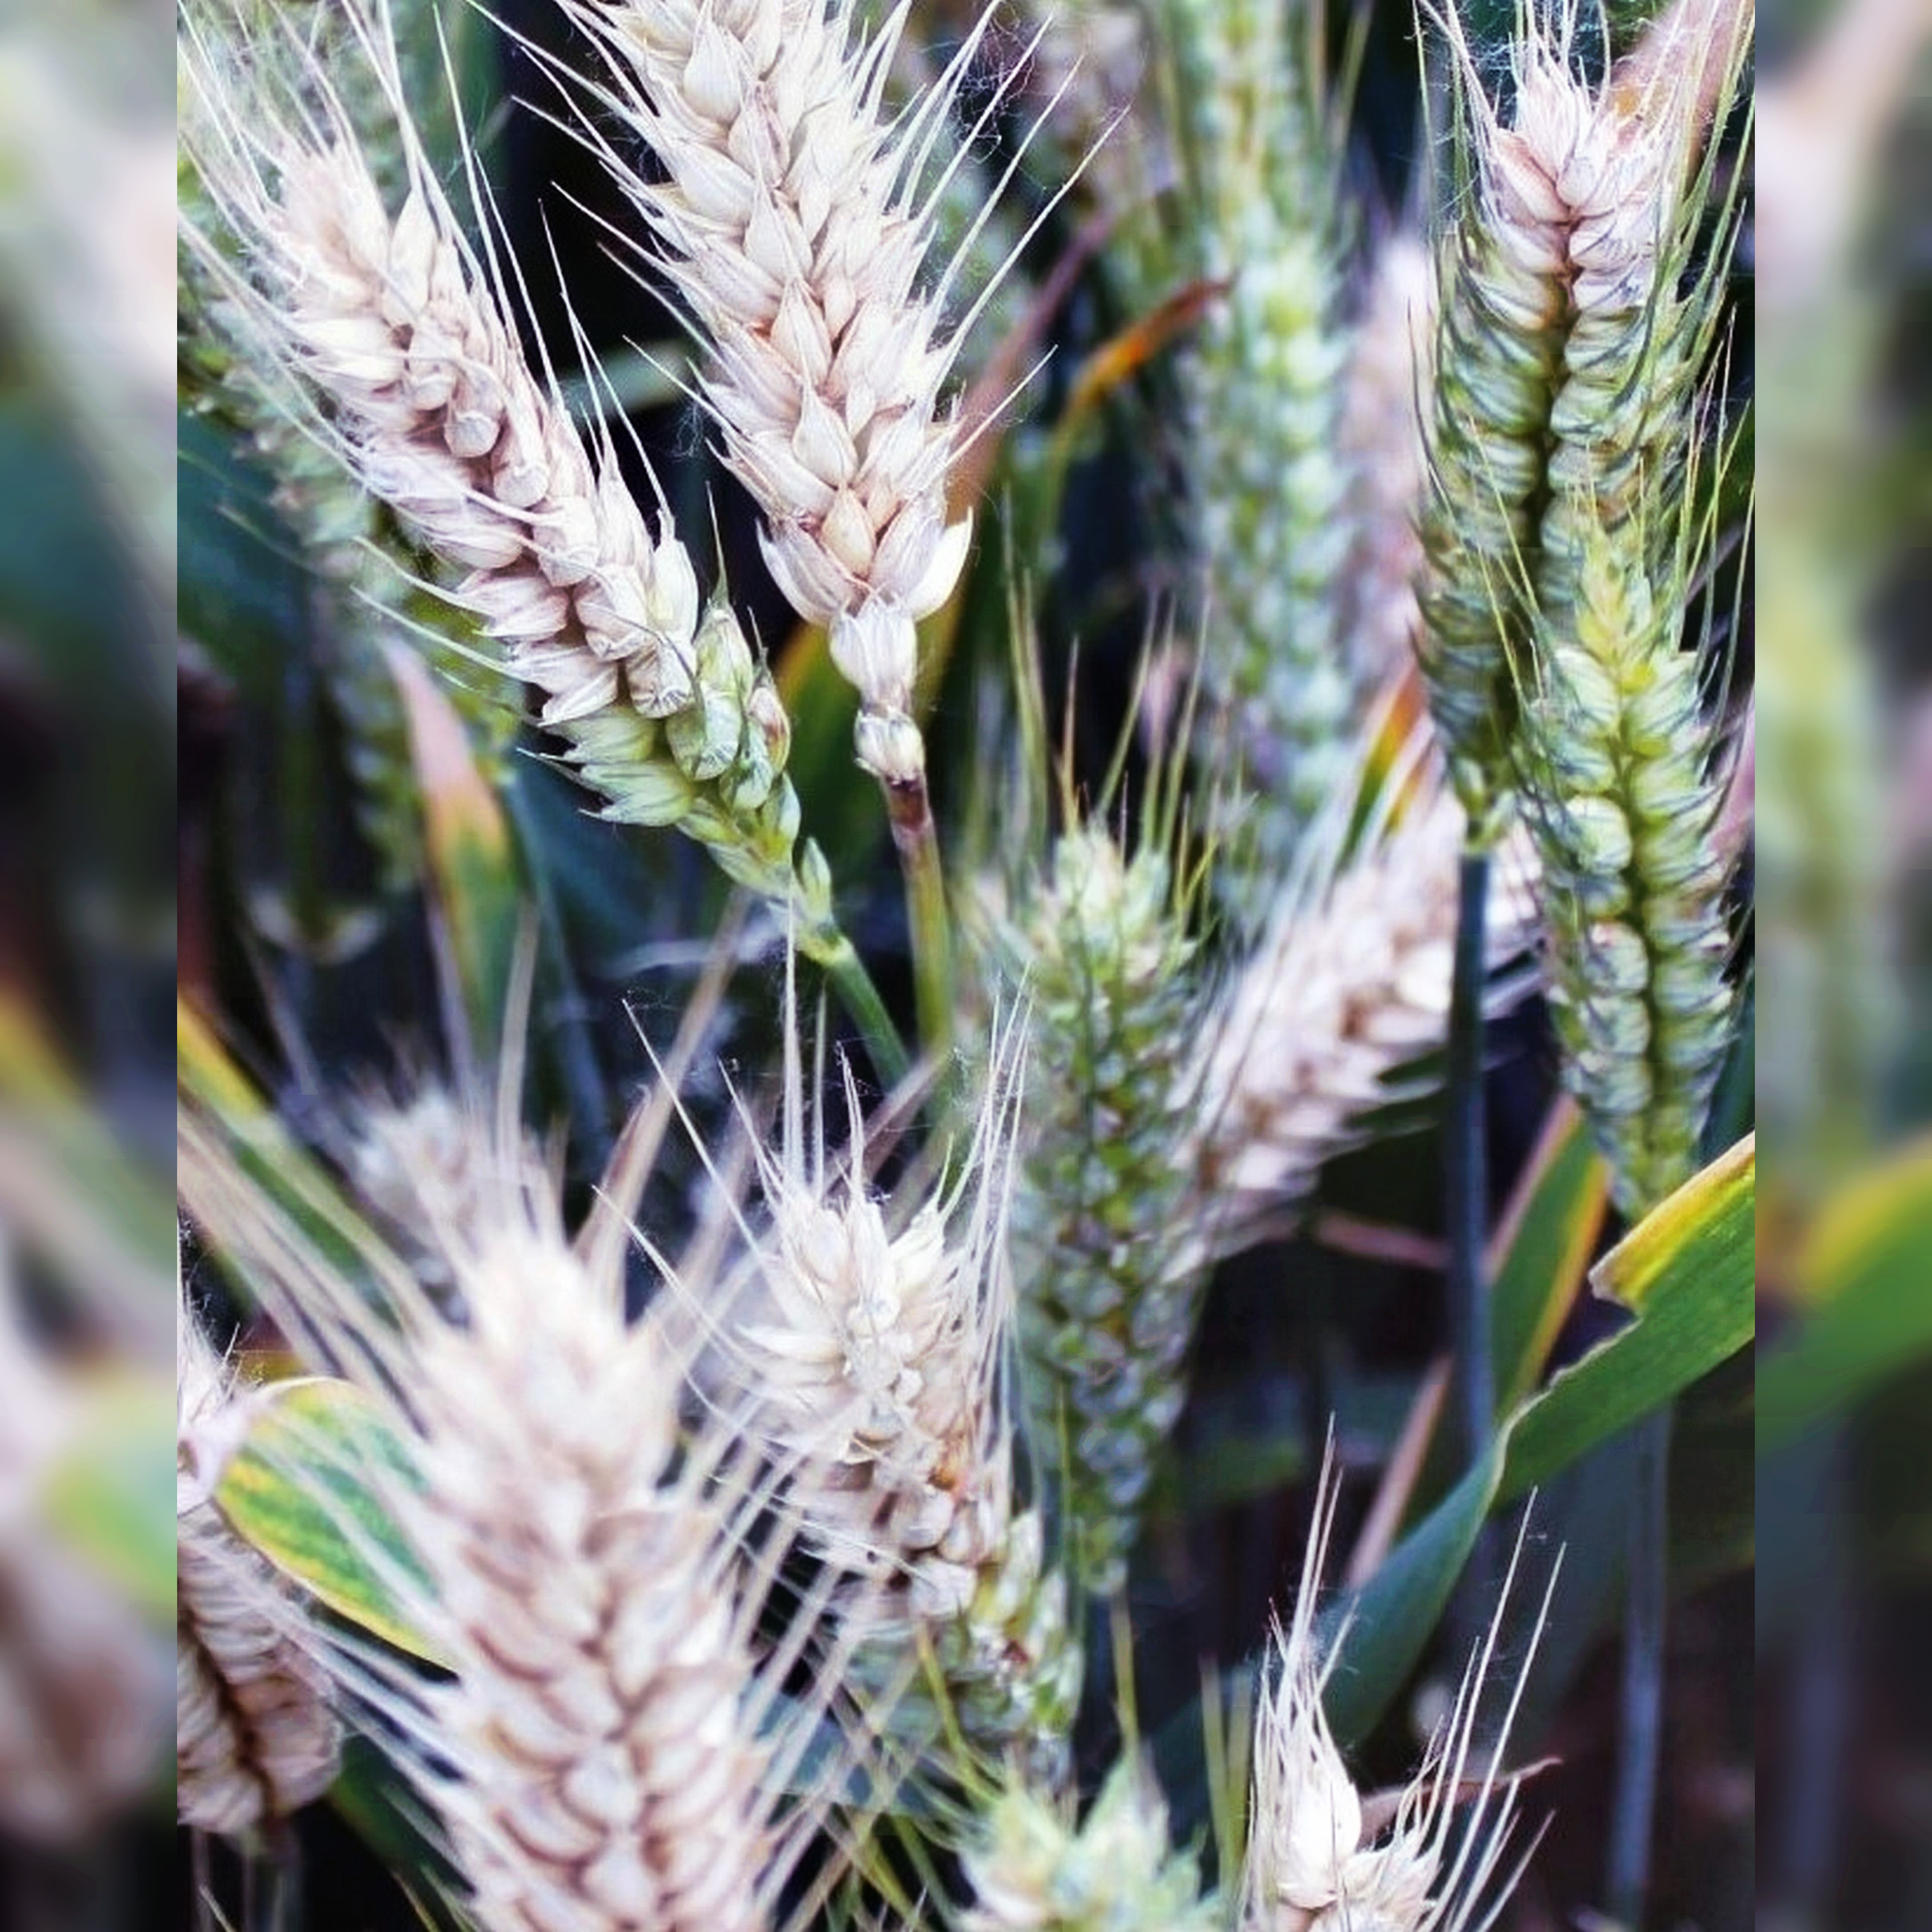Wheat scab: (209, 163, 816, 978), (1382, 58, 1739, 812), (741, 1164, 1122, 1760)
